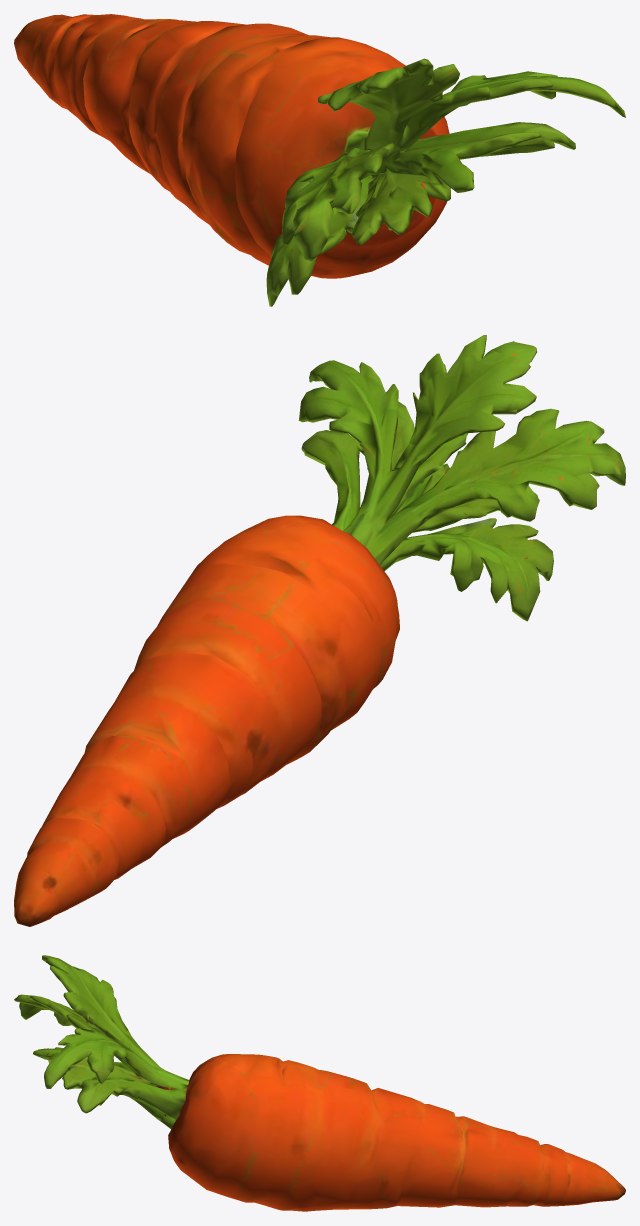
The model's file is d_carrot.glb.
The picture shows the model from 3 angles, top to bottom: view 1: azimuth 30°, elevation 25°; view 2: azimuth 150°, elevation 25°; view 3: azimuth 270°, elevation 25°; orthographic projection. The views are drawn at different scales.
Bounding box in the file's own units: 0.7485 × 0.7291 × 1.89.
Materials: 1 (1 with a texture image).
